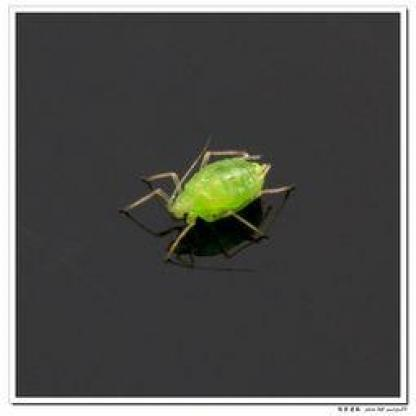aphid: (121, 134, 296, 258)
